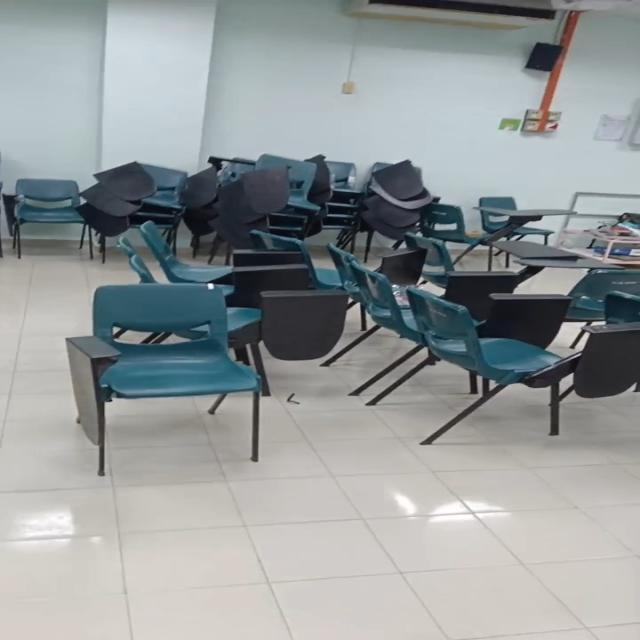sandalye: (91, 284, 262, 474), (3, 178, 93, 259)
